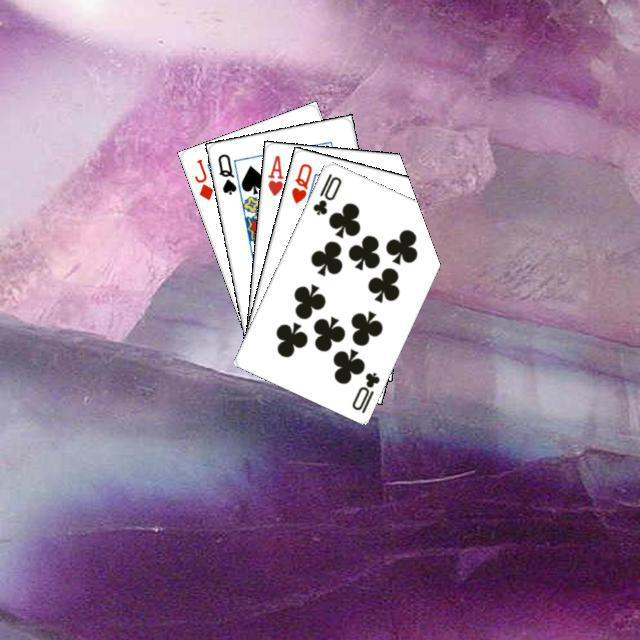10c: (308, 168, 343, 217), (347, 367, 381, 415)
Ah: (263, 150, 285, 198)
Jd: (189, 154, 215, 202)
Qh: (286, 158, 314, 205)
Qs: (213, 149, 238, 196)
